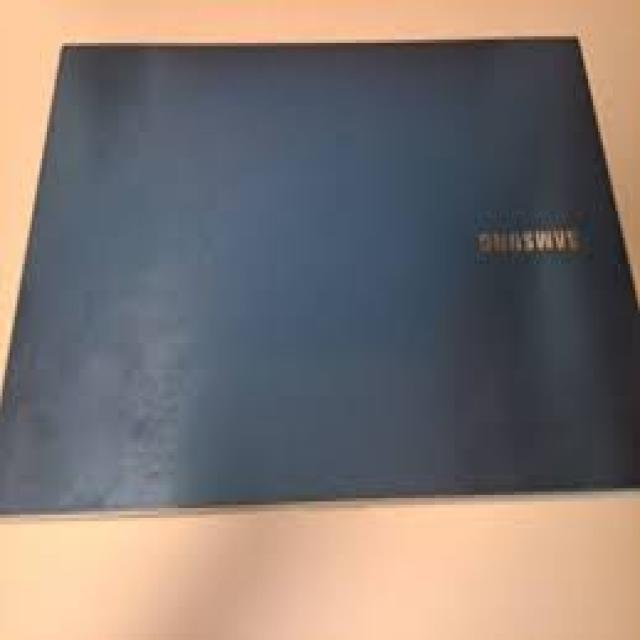laptop: (0, 34, 639, 517)
